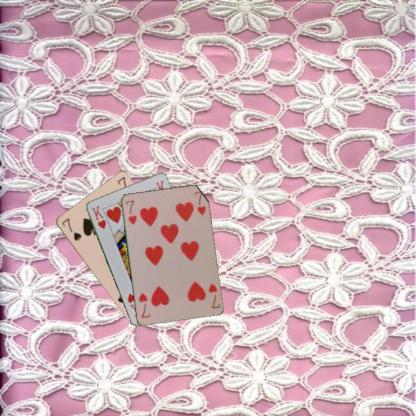7h: (123, 198, 138, 226), (206, 280, 220, 310)
7s: (59, 216, 83, 242)
Kh: (89, 203, 107, 230)
